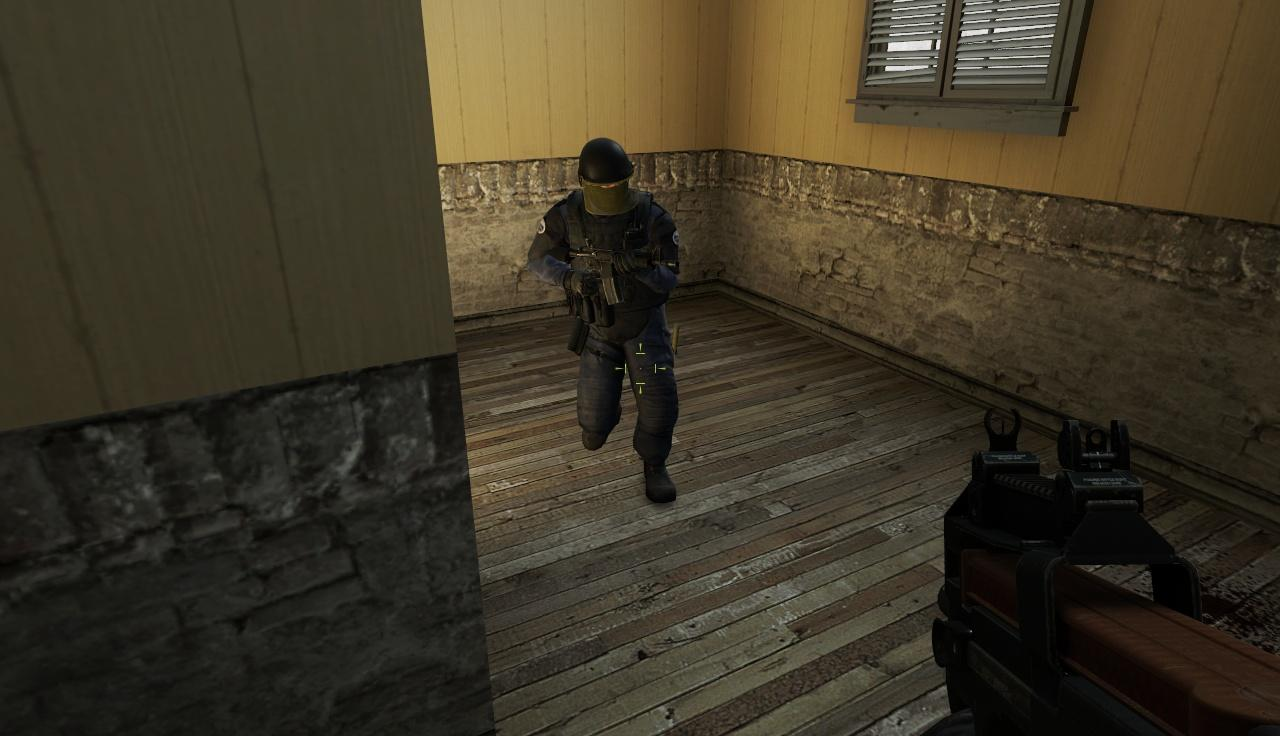ct: (560, 136, 676, 492)
cthead: (579, 140, 638, 211)
rifle: (939, 405, 1280, 736)
